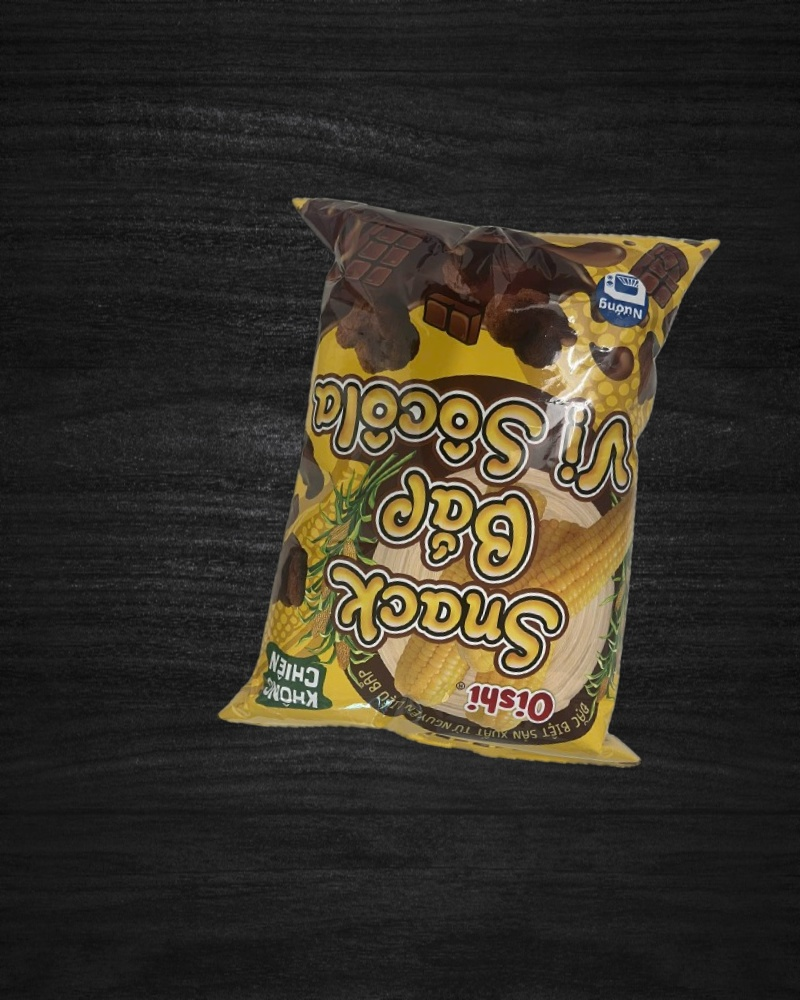Snack socola: (203, 169, 733, 793)
